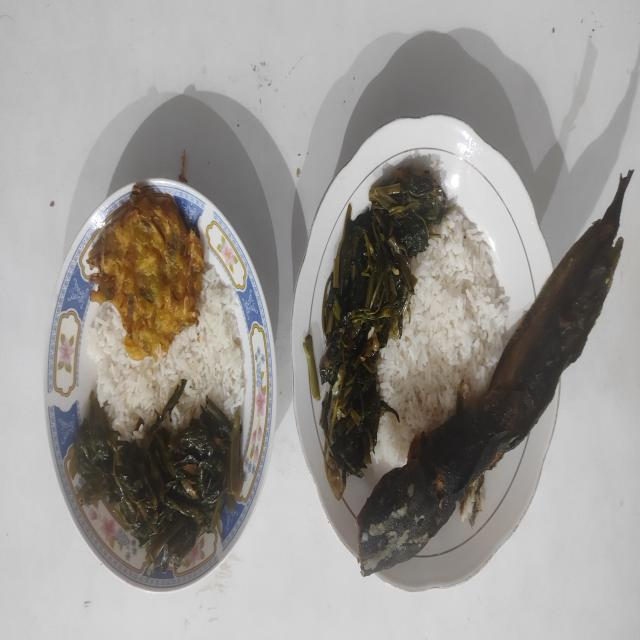nasi_putih: (375, 209, 510, 466), (87, 270, 246, 440)
tumis_kangkung: (304, 165, 454, 500), (65, 394, 236, 574)
